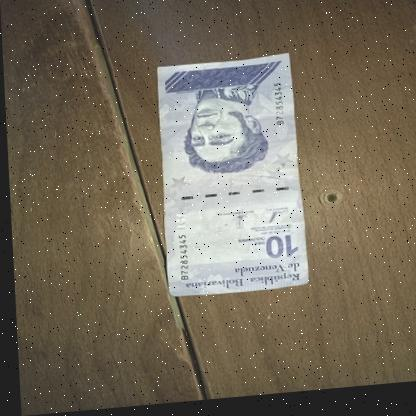vef_front: (154, 57, 308, 301)
